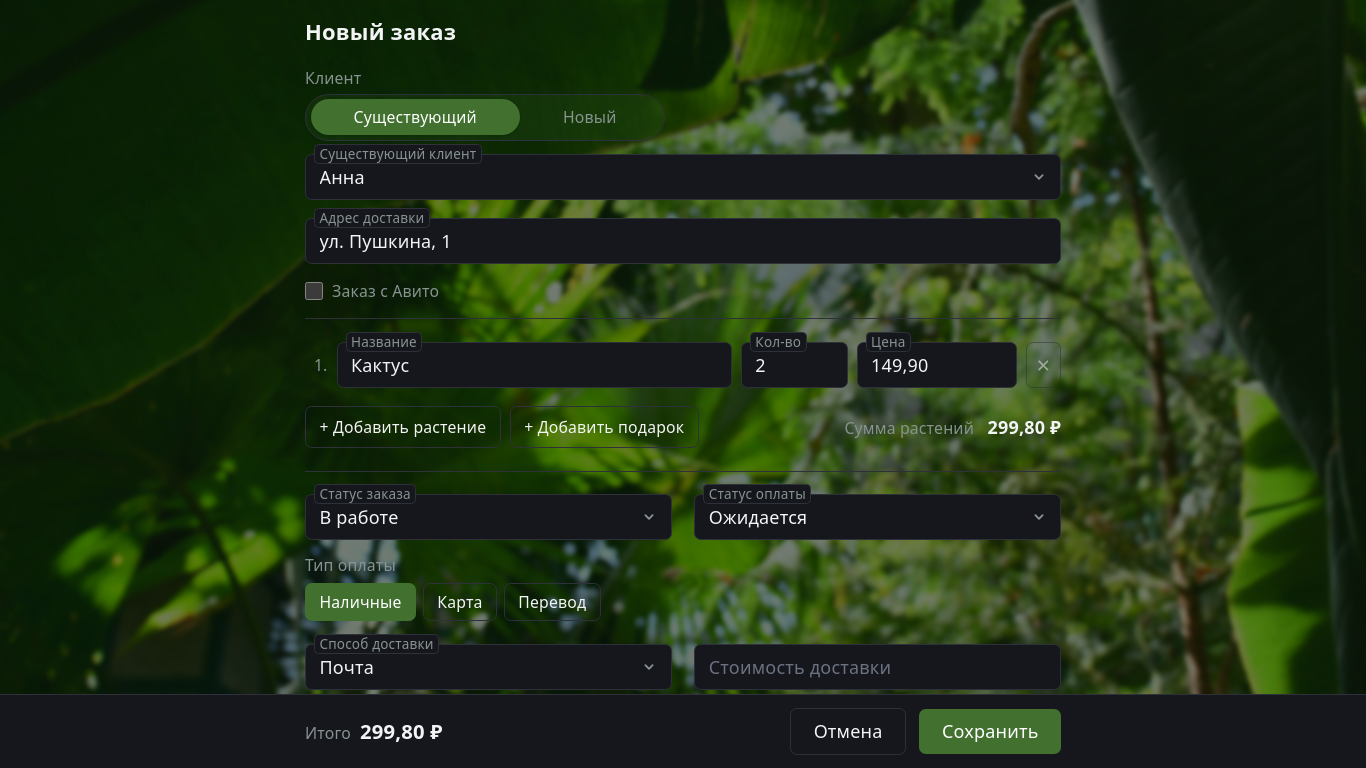
OrderForm › headlines the prepaid amount in the footer with the remainder note while prepaid
Expected: the dropdown labelled "Существующий клиент" is shown, [305,154,1061,200]
Select "Предоплата" in the dropdown labelled "Статус оплаты" at (878, 517), box [694,494,1061,540]
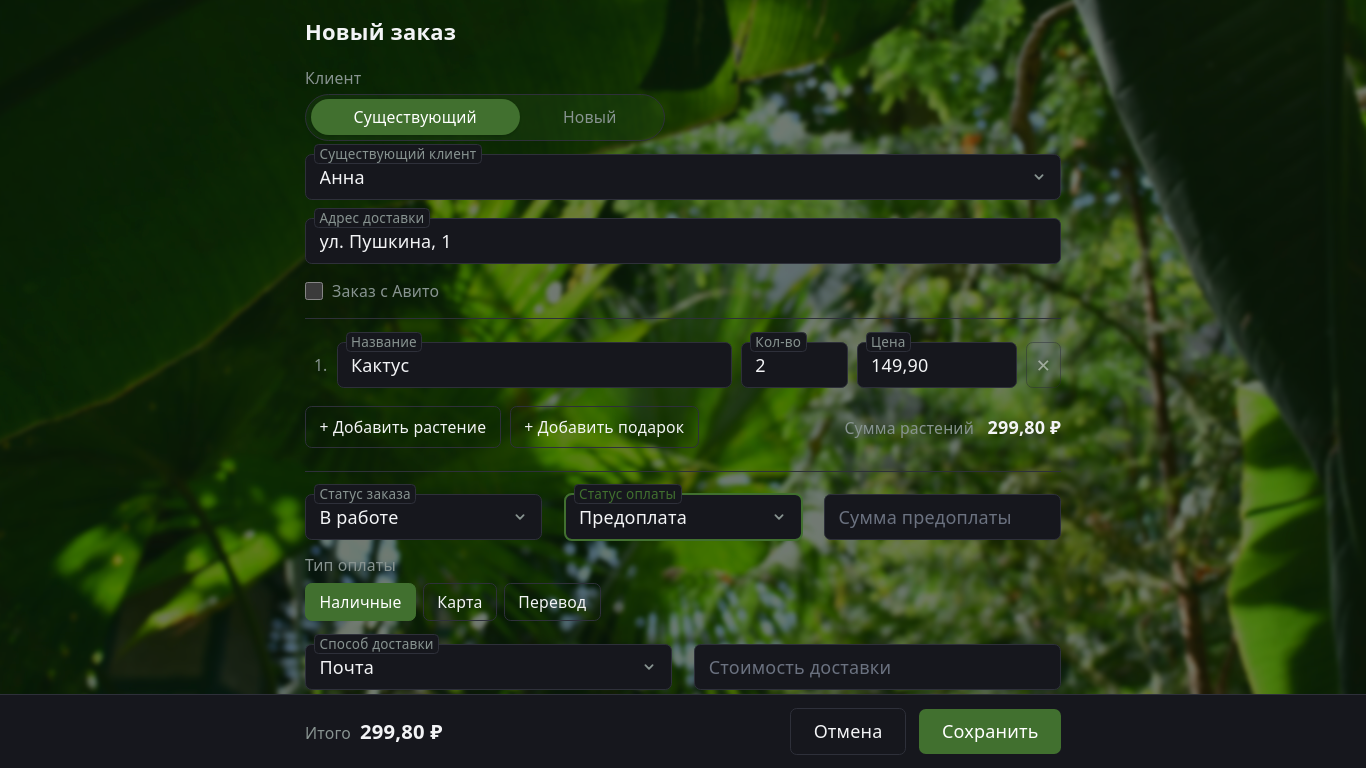
Type "100" into the field labelled "Сумма предоплаты" at (942, 517), box [824,494,1061,540]
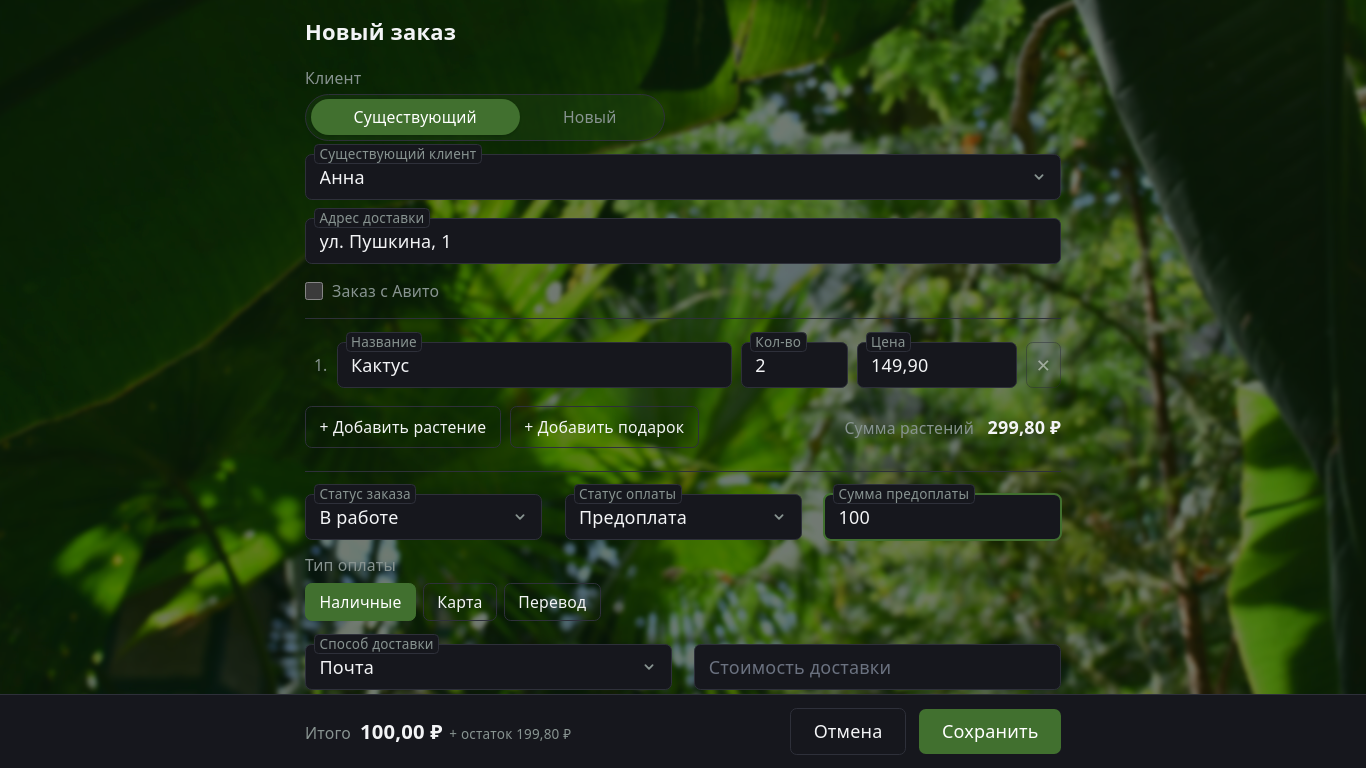
Result: the text "+ остаток 199,80 ₽" is shown at [449,725,571,743]
Type "50" into the field labelled "Стоимость доставки" at (878, 667), box [694,644,1061,690]
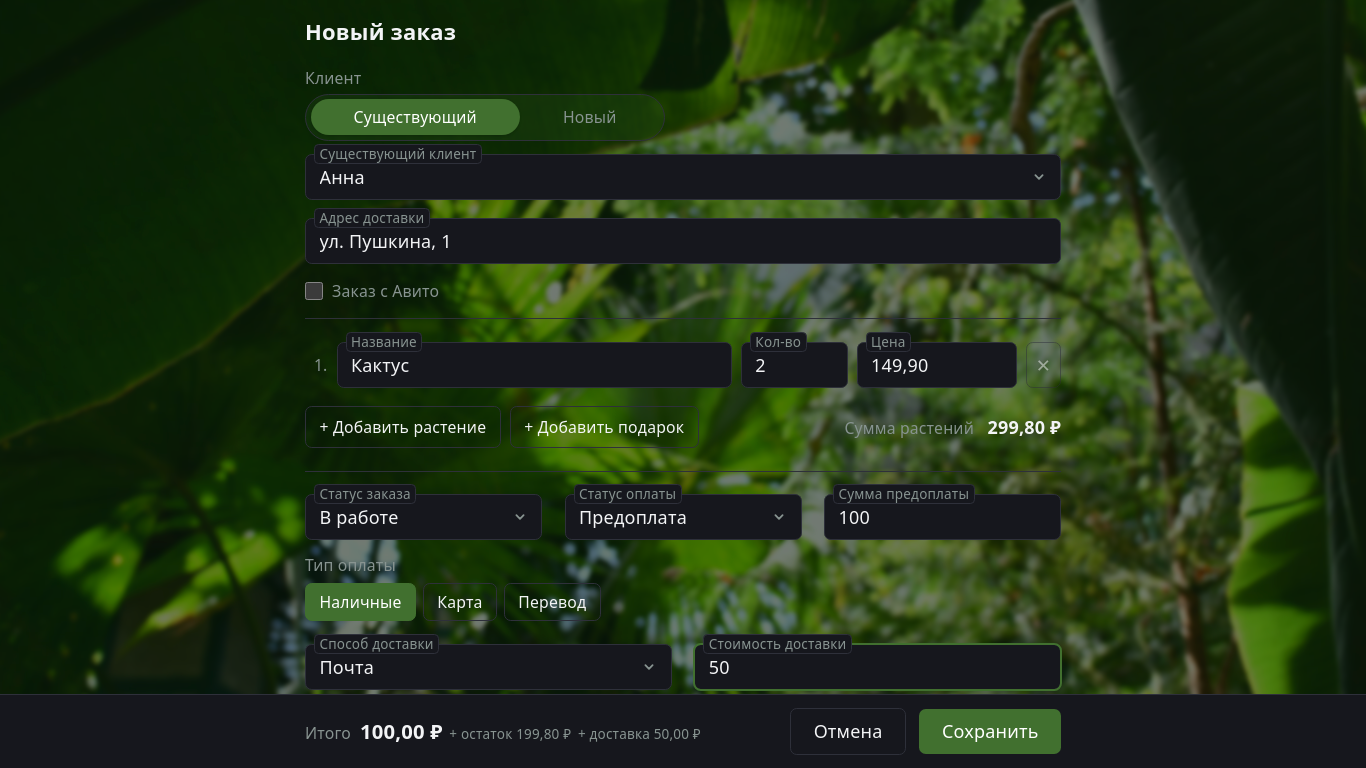
Result: the text "+ остаток 199,80 ₽" is shown at [449,725,571,743]
Result: the text "+ доставка 50,00 ₽" is shown at [578,725,701,743]
Select "Оплачено" in the dropdown labelled "Статус оплаты" at (683, 517), box [564,494,802,540]
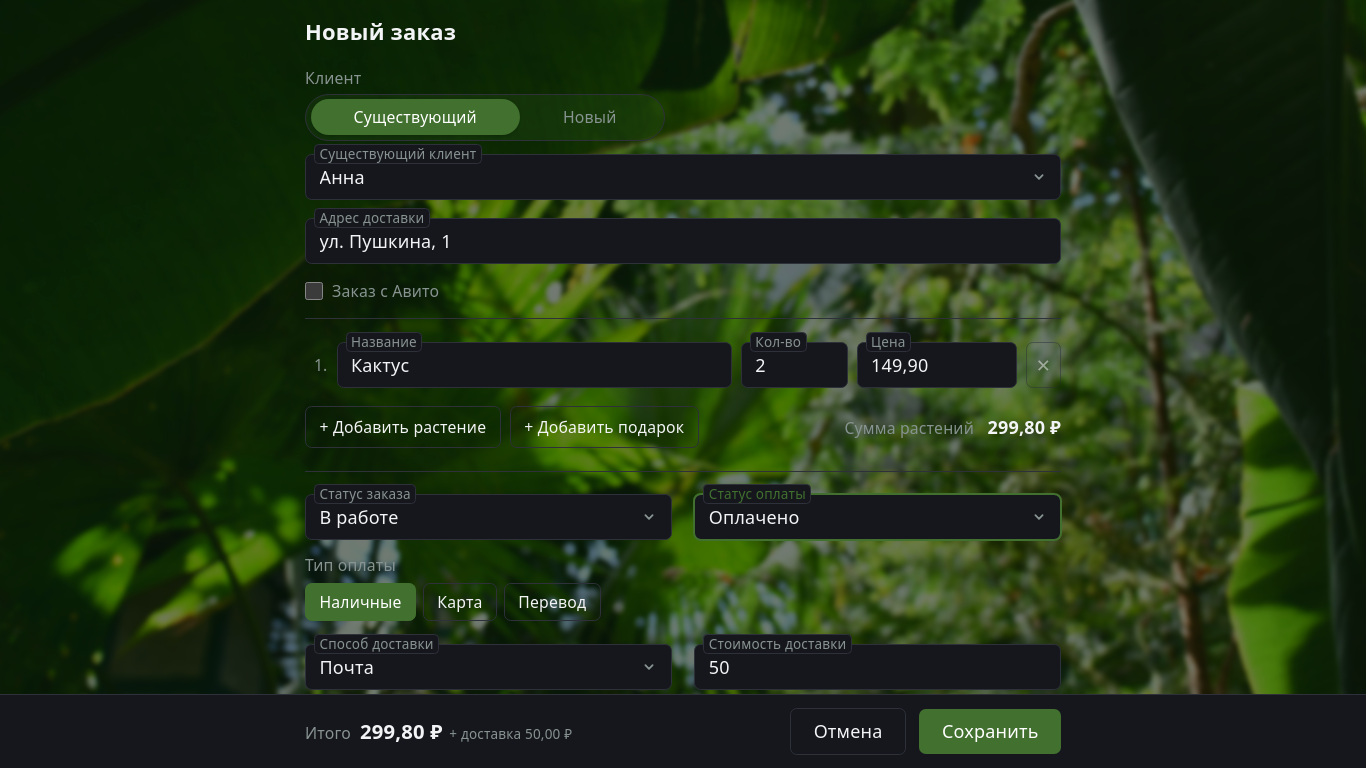
Result: the text "100,00 ₽" is gone
Result: the text "остаток" is gone
